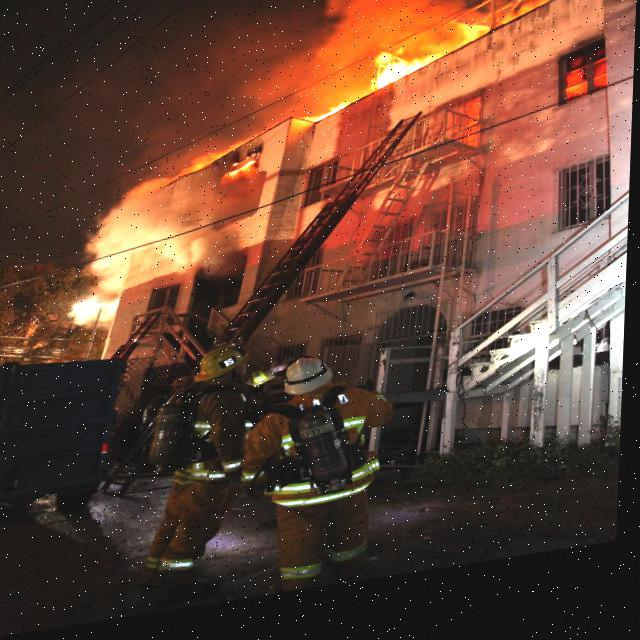Fire: (306, 51, 472, 132), (219, 162, 268, 186)
